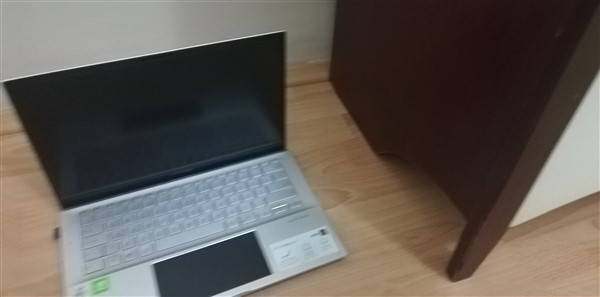laptop: (5, 31, 353, 297)
